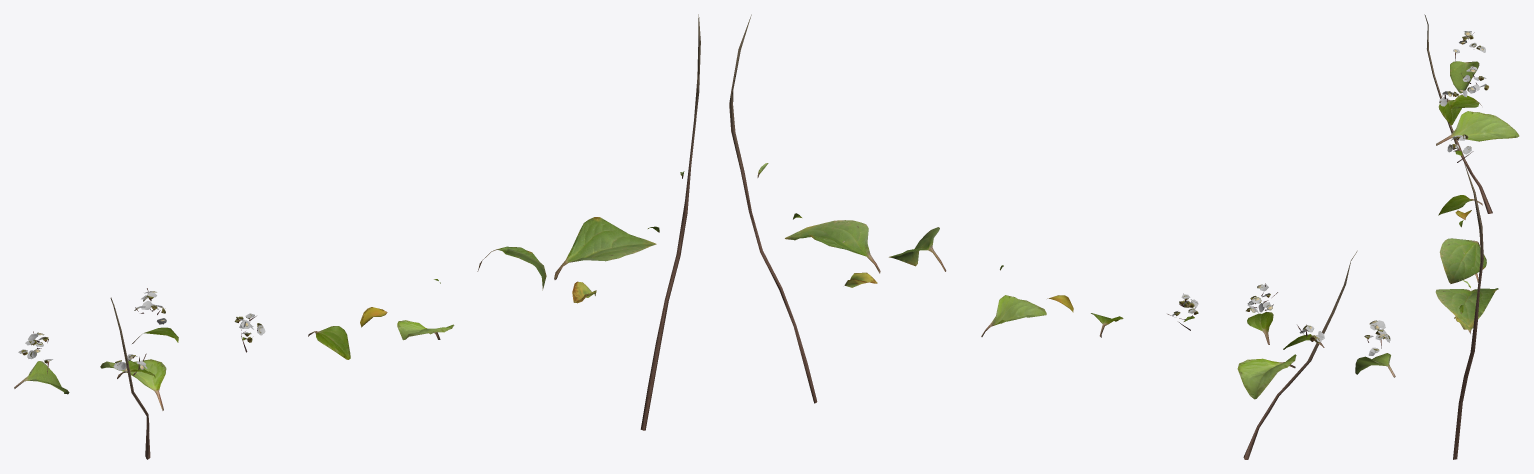
The model's file is distant.glb.
3 views of the same model, side by side, from view 1: azimuth 30°, elevation 25°; view 2: azimuth 150°, elevation 25°; view 3: azimuth 270°, elevation 25° (orthographic). The views are drawn at different scales.
Parts seen in each view (by area): view 1: shrub_01_a; view 2: shrub_01_a; view 3: shrub_01_a.
Part boxes in pixels (left/top/right/bottom): shrub_01_a: left=14, top=14, right=700, bottom=459; shrub_01_a: left=729, top=14, right=1395, bottom=459; shrub_01_a: left=1424, top=14, right=1519, bottom=459.
Bounding box in the file's own units: 2.6 × 1.42 × 0.381.
Materials: 1 (1 with a texture image).
